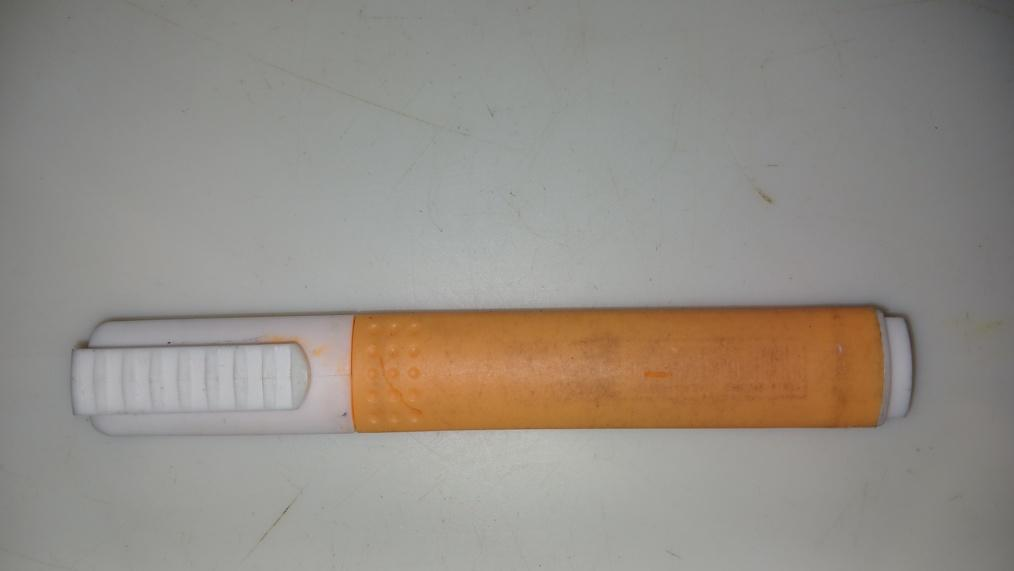Highlighter: (74, 302, 926, 435)
